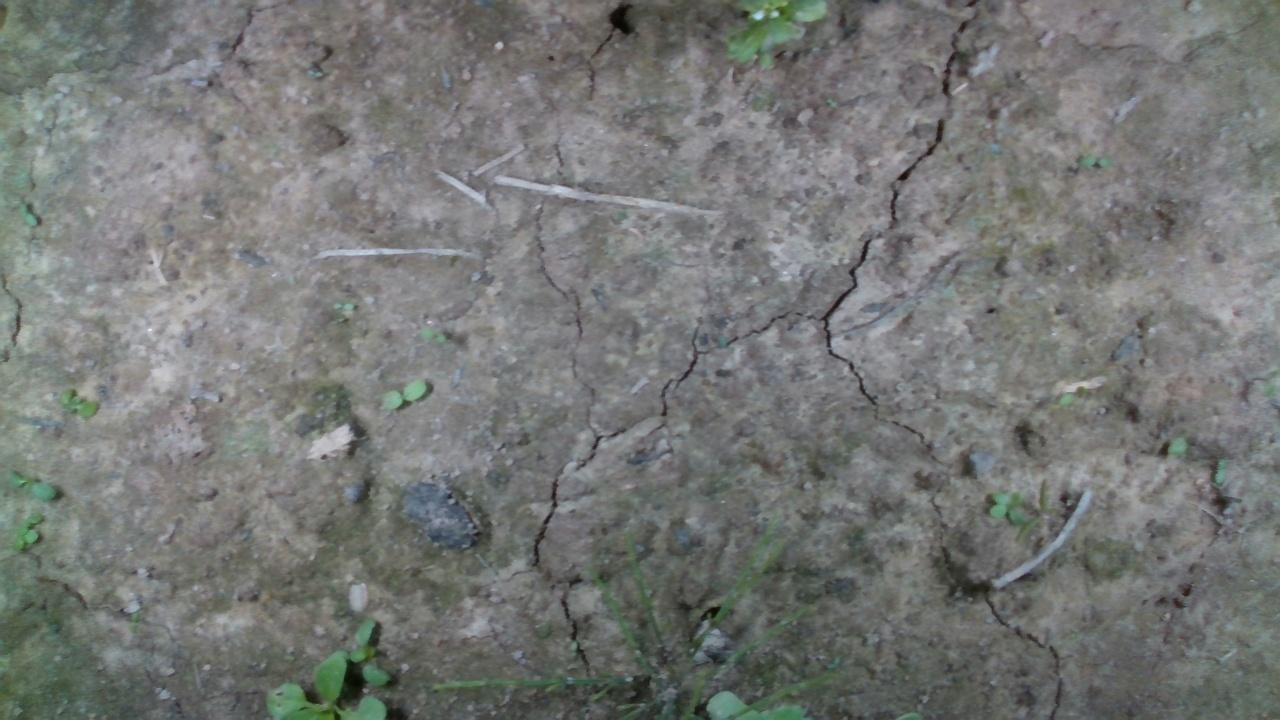weed: (377, 376, 428, 412), (4, 468, 56, 501), (57, 385, 100, 419), (986, 487, 1026, 523), (1075, 153, 1112, 169), (329, 300, 355, 312)
